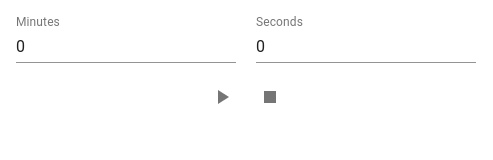
Test: displays the original time set after a reset
The image size is (493, 160).
Replace the text in the number field labelled "Seconds" with "10" at {"x": 366, "y": 47}, box [256,31,476,63]
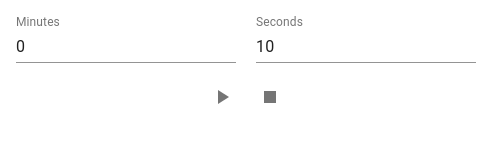
Click the button named "play" at {"x": 222, "y": 97}, box [198,73,246,121]
Wait 5000 ms
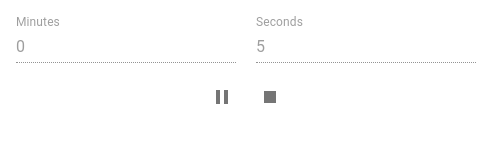
Click the button named "stop" at {"x": 270, "y": 97}, box [246,73,294,121]
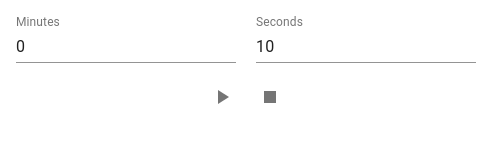
Result: the number field labelled "Seconds" holds "10" at [256,31,476,63]
